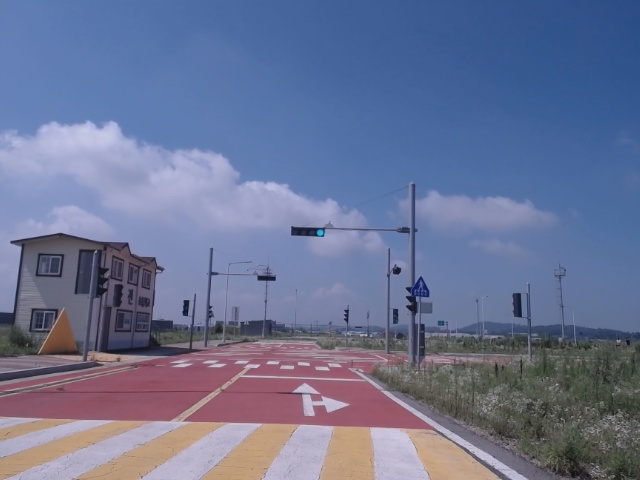straight_green_4: (291, 227, 324, 237)
